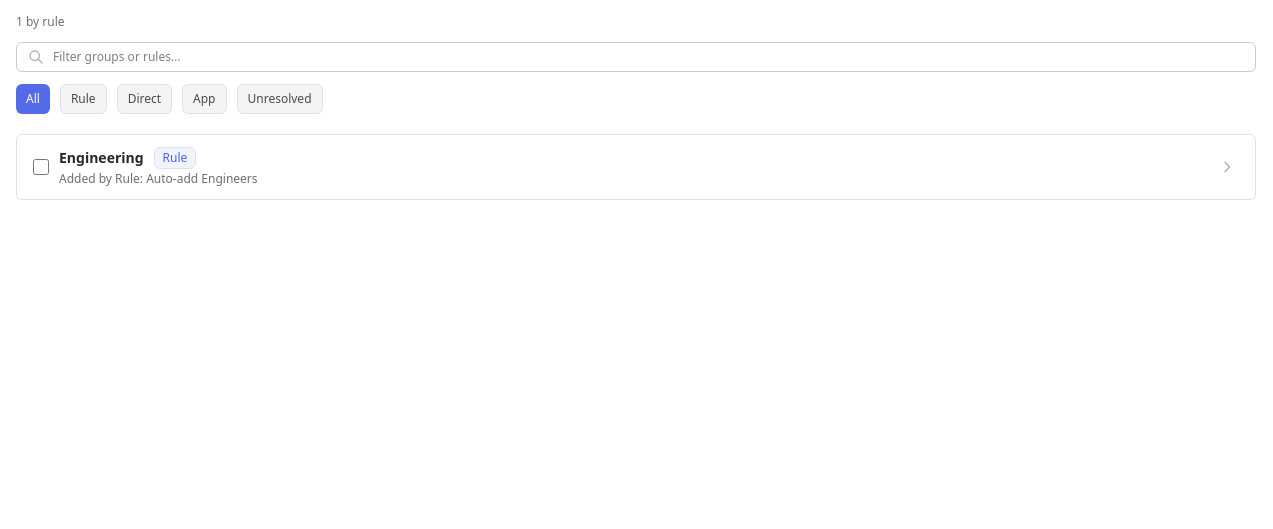
Test: GroupMembershipsList › explains an unevaluable condition neutrally rather than as a failure
The width and height of the screenshot is (1273, 529).
What coordinates should you click on to do the following:
click the button named "Show how Engineering was granted"
I would click on:
 (1227, 167)
Its box is [1215,155,1239,179].
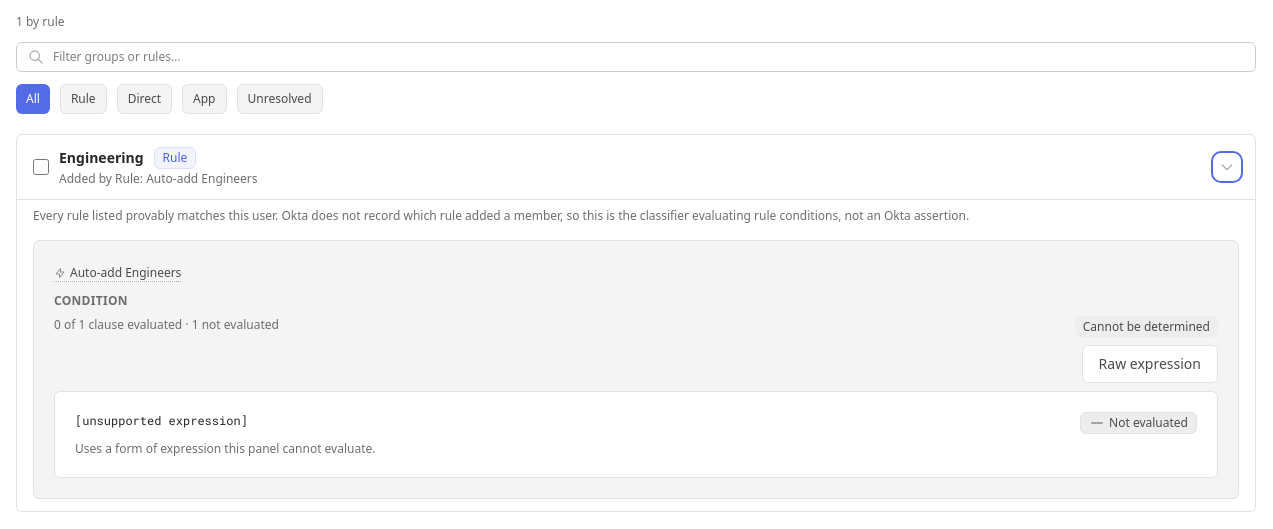
Now the text "Not evaluated" is shown, box [1080,412,1197,434]
